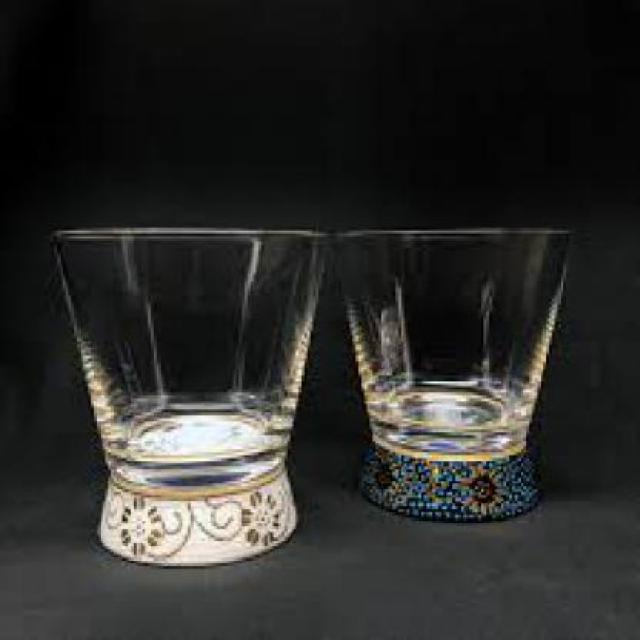kaca: (48, 225, 322, 483), (328, 228, 569, 446)
